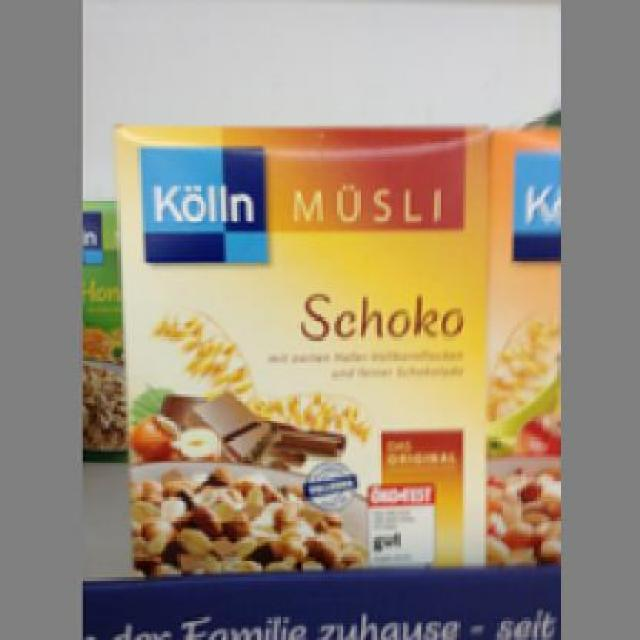Cereal: (109, 120, 492, 574)
